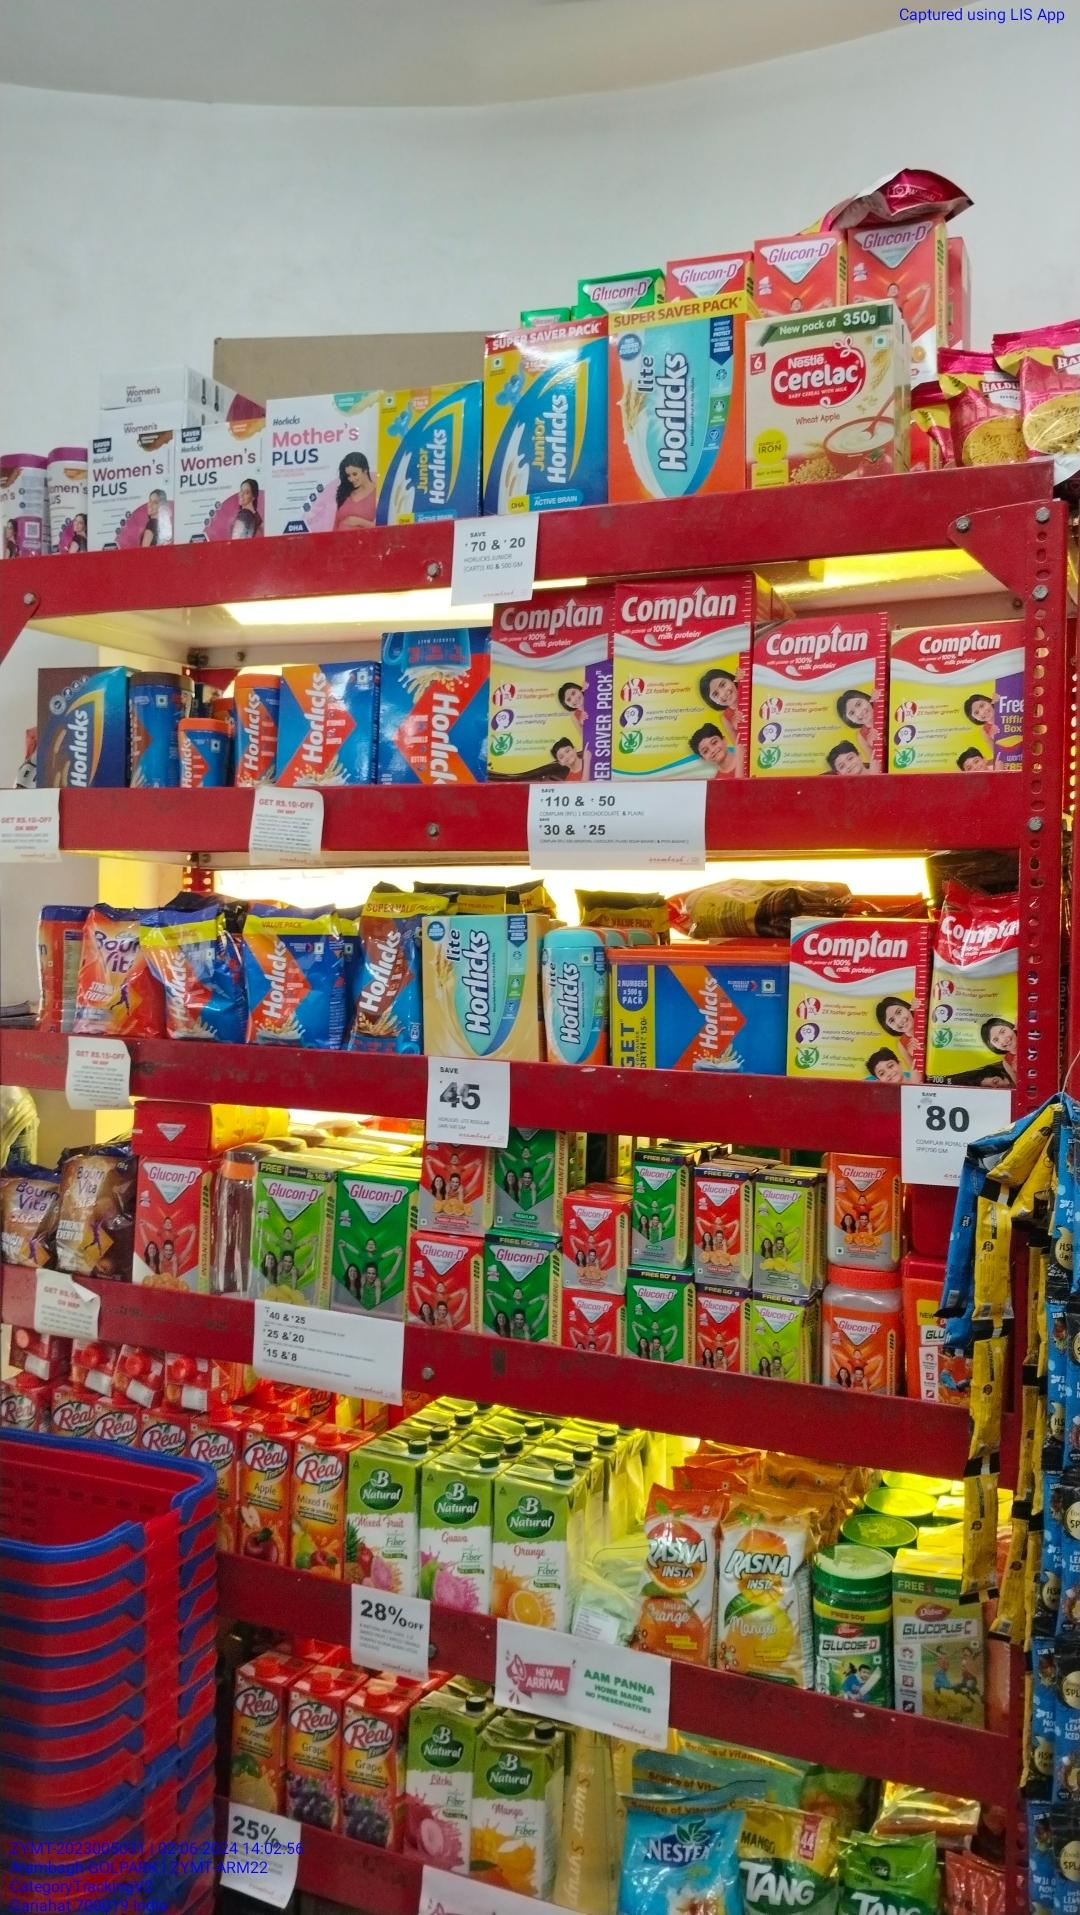HORLICKS_LITE_REGULAR_MALT_500_GM_JAR: (542, 934, 609, 1069)
HORLICK_MALT_1_KG_CONTAINER: (614, 951, 791, 1082)
